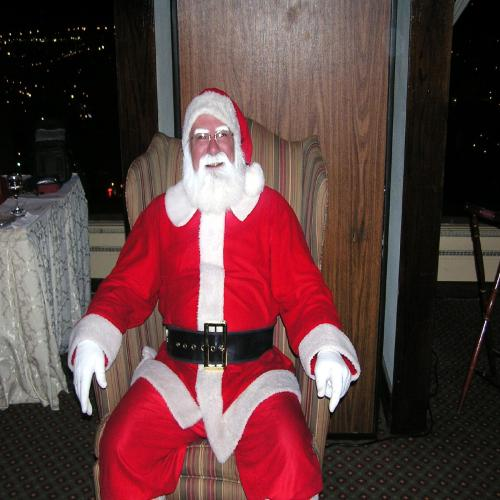Santa: (67, 87, 363, 500)
